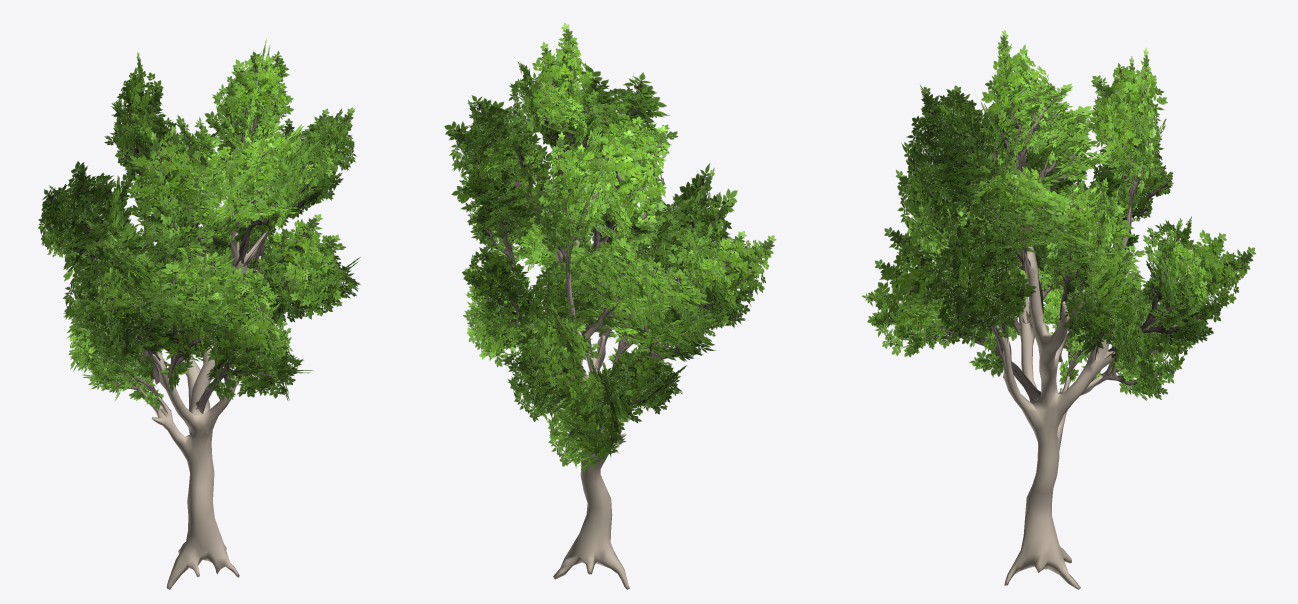
3 views of the same model, side by side, from view 1: azimuth 30°, elevation 25°; view 2: azimuth 150°, elevation 25°; view 3: azimuth 270°, elevation 25° (orthographic). The views are drawn at different scales.
Parts seen in each view (by area): view 1: Arbol02fbxPlane006_1, Arbol02fbxPlane006_2; view 2: Arbol02fbxPlane006_1, Arbol02fbxPlane006_2; view 3: Arbol02fbxPlane006_1, Arbol02fbxPlane006_2.
Part boxes in pixels (x1=…): Arbol02fbxPlane006_1: x1=38, y1=38, x2=360, y2=416; Arbol02fbxPlane006_2: x1=139, y1=187, x2=268, y2=589; Arbol02fbxPlane006_1: x1=444, y1=22, x2=776, y2=472; Arbol02fbxPlane006_2: x1=511, y1=193, x2=667, y2=589; Arbol02fbxPlane006_1: x1=861, y1=30, x2=1255, y2=403; Arbol02fbxPlane006_2: x1=993, y1=185, x2=1130, y2=589.
Size of the model in its own units: 20.51 by 32.14 by 22.2.
2 materials, 1 textured.
